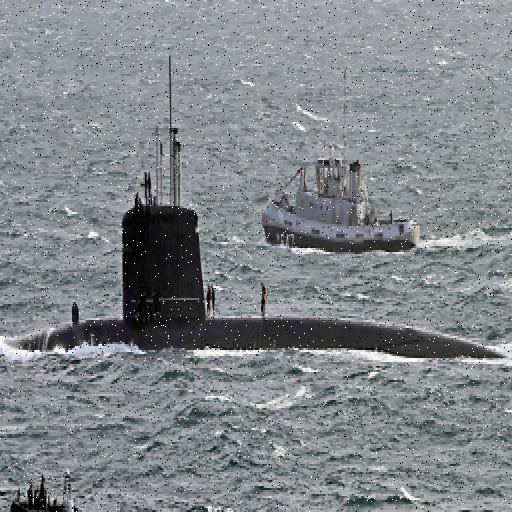submarine: (11, 207, 512, 353)
